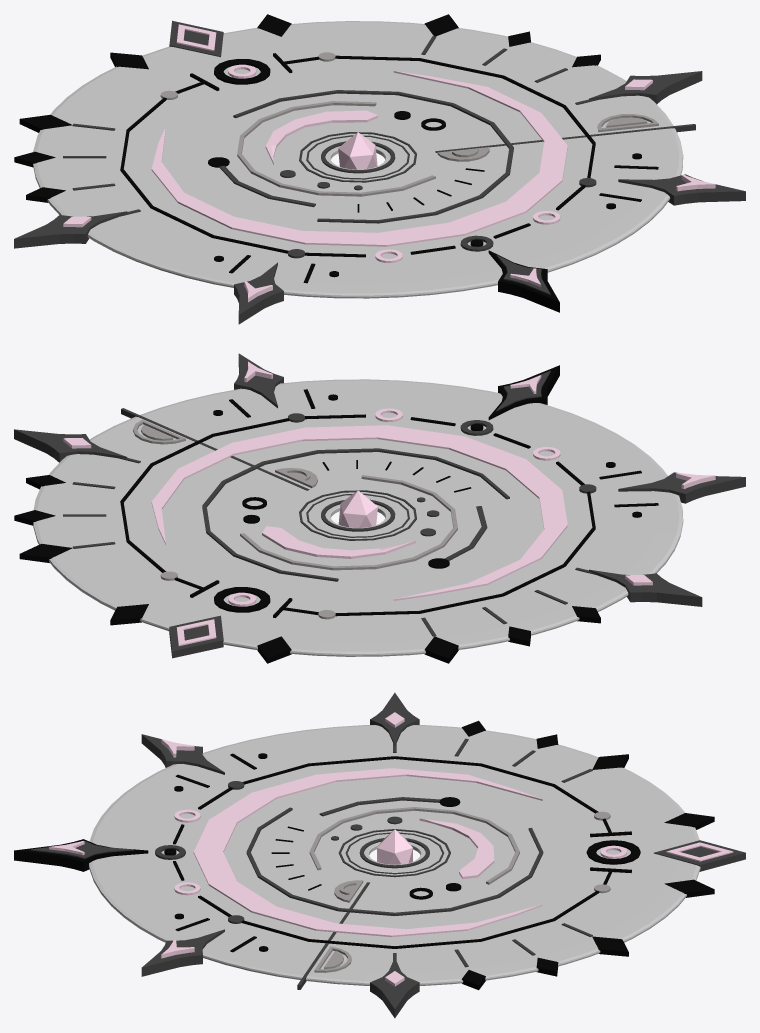
Rendered from flat star_st2.fbx.
3 renders of one model, top to bottom at view 1: azimuth 30°, elevation 25°; view 2: azimuth 150°, elevation 25°; view 3: azimuth 270°, elevation 25°, orthographic. The views are drawn at different scales.
Visible parts, largest first — view 1: center_flat, moon_crescent, edge_art_ring1, center_art_ring7, center_art_ring5, edge_art_arrow6, edge_art_arrow8, edge_art_arrow10, center_art_ring4, edge_art_arrow4, moon_half, edge_art_arrow1 (+9 smaller); view 2: center_flat, moon_crescent, edge_art_ring1, center_art_ring7, center_art_ring5, edge_art_arrow6, edge_art_arrow4, edge_art_arrow10, center_art_ring4, edge_art_dia1, moon_half, center_star (+12 smaller); view 3: center_flat, moon_crescent, edge_art_ring1, center_art_ring7, center_art_ring5, edge_art_arrow8, edge_art_arrow1, edge_art_arrow10, center_art_ring4, edge_art_arrow4, edge_art_dia1, moon_half (+8 smaller).
Part boxes in pixels (<box>): center_flat: <box>33,21,683,298</box>; moon_crescent: <box>151,71,567,246</box>; edge_art_ring1: <box>120,55,595,257</box>; center_art_ring7: <box>233,90,513,223</box>; center_art_ring5: <box>237,101,435,196</box>; edge_art_arrow6: <box>14,211,127,248</box>; edge_art_arrow8: <box>618,174,745,205</box>; edge_art_arrow10: <box>589,71,702,104</box>; center_art_ring4: <box>265,110,377,164</box>; edge_art_arrow4: <box>234,262,283,324</box>; moon_half: <box>437,114,658,161</box>; edge_art_arrow1: <box>488,250,559,312</box>; center_flat: <box>33,379,683,656</box>; moon_crescent: <box>151,425,567,600</box>; edge_art_ring1: <box>120,414,595,616</box>; center_art_ring7: <box>202,448,509,581</box>; center_art_ring5: <box>240,475,457,570</box>; edge_art_arrow6: <box>589,569,702,606</box>; edge_art_arrow4: <box>618,472,745,503</box>; edge_art_arrow10: <box>14,429,127,462</box>; center_art_ring4: <box>262,526,415,558</box>; edge_art_dia1: <box>169,615,223,658</box>; moon_half: <box>133,419,317,488</box>; center_star: <box>338,490,377,527</box>; center_flat: <box>89,725,700,985</box>; moon_crescent: <box>193,768,542,936</box>; edge_art_ring1: <box>173,756,612,948</box>; center_art_ring7: <box>246,807,543,915</box>; center_art_ring5: <box>309,807,519,884</box>; edge_art_arrow8: <box>141,929,224,976</box>; edge_art_arrow1: <box>14,839,148,871</box>; edge_art_arrow10: <box>370,957,419,1018</box>; center_art_ring4: <box>419,818,494,878</box>; edge_art_arrow4: <box>141,734,224,774</box>; edge_art_dia1: <box>654,840,745,871</box>; moon_half: <box>314,880,363,972</box>.
Size of the model in its own units: 243 by 18.75 by 237.
